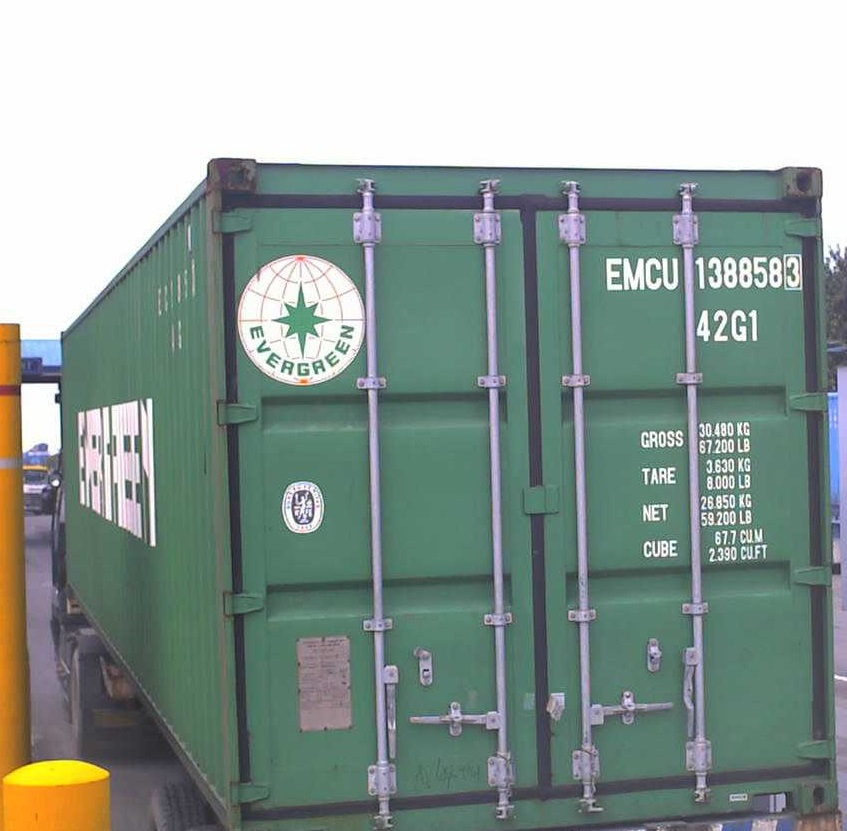container_door: (209, 155, 837, 824)
